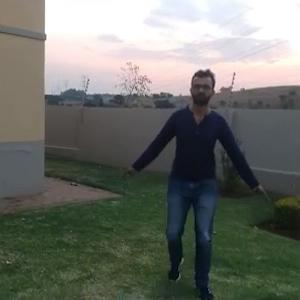land: (128, 69, 266, 282)
